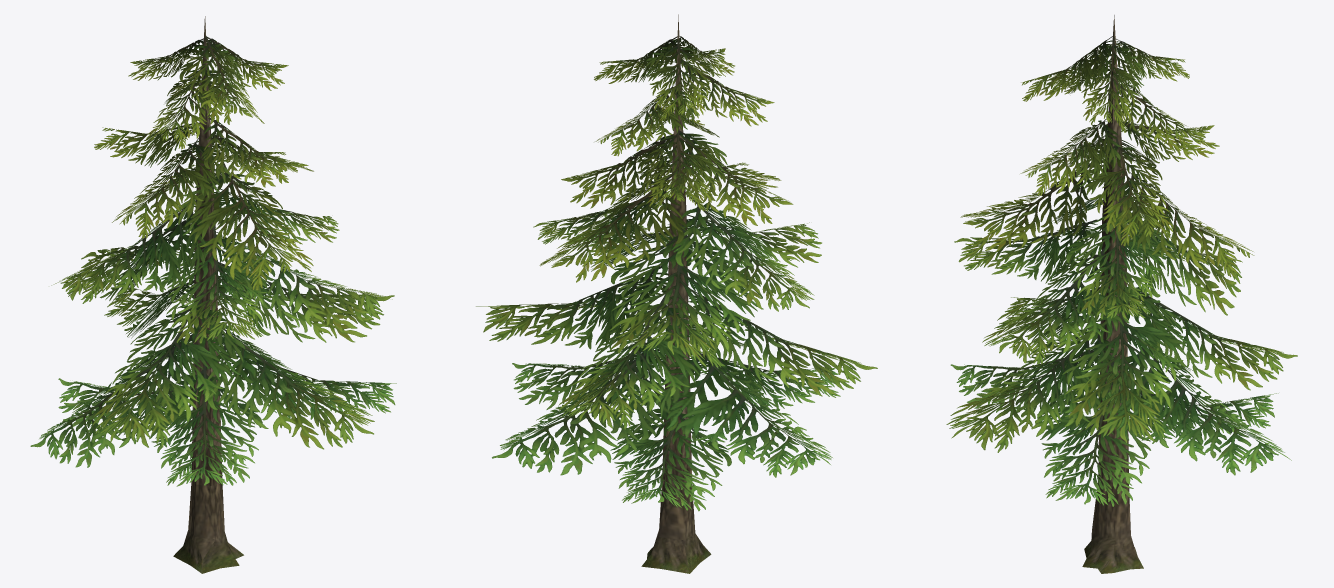
File: songshu02_04.FBX
3 views of the same model, side by side, from view 1: azimuth 30°, elevation 25°; view 2: azimuth 150°, elevation 25°; view 3: azimuth 270°, elevation 25° (orthographic).
Parts seen in each view (by area): view 1: songshu02_04; view 2: songshu02_04; view 3: songshu02_04.
Boxes of the visible parts, x1=… form: songshu02_04: x1=30, y1=16, x2=396, y2=573; songshu02_04: x1=476, y1=14, x2=877, y2=573; songshu02_04: x1=946, y1=15, x2=1297, y2=573.
Bounding box in the file's own units: 4.55 × 5.92 × 3.83.
